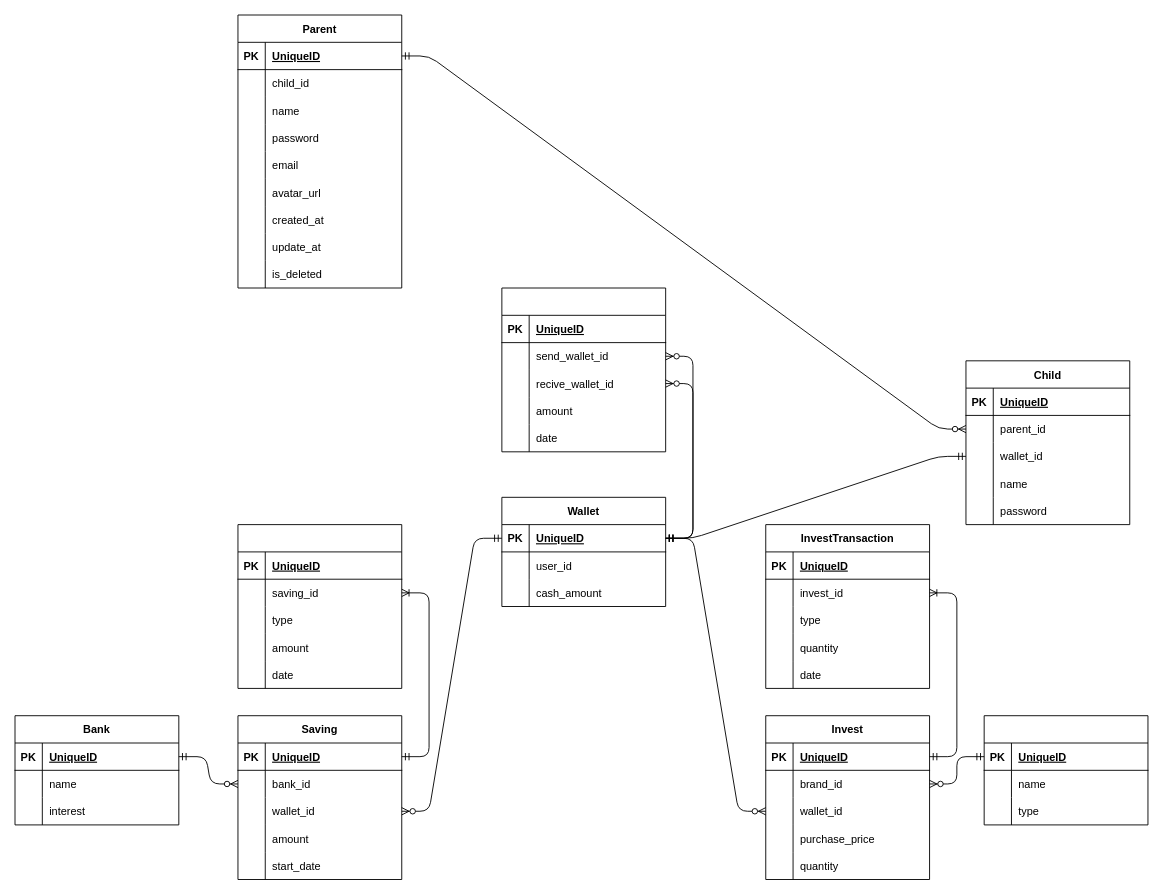
The diagram is 1163 pixels wide and 895 high, and some of its shapes have lost their labels. The box of each missing label's shape, as (x1, y1, x2, y2) in pixels:
SavingTransaction: (237, 524, 402, 688)
SendTransaction: (501, 287, 666, 452)
StockBrand: (983, 715, 1148, 825)
